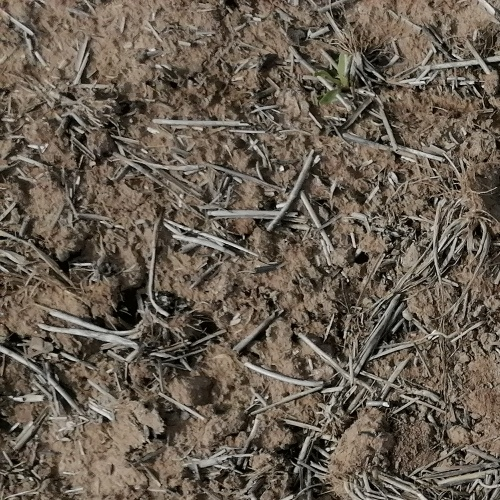beet: (310, 52, 352, 109)
